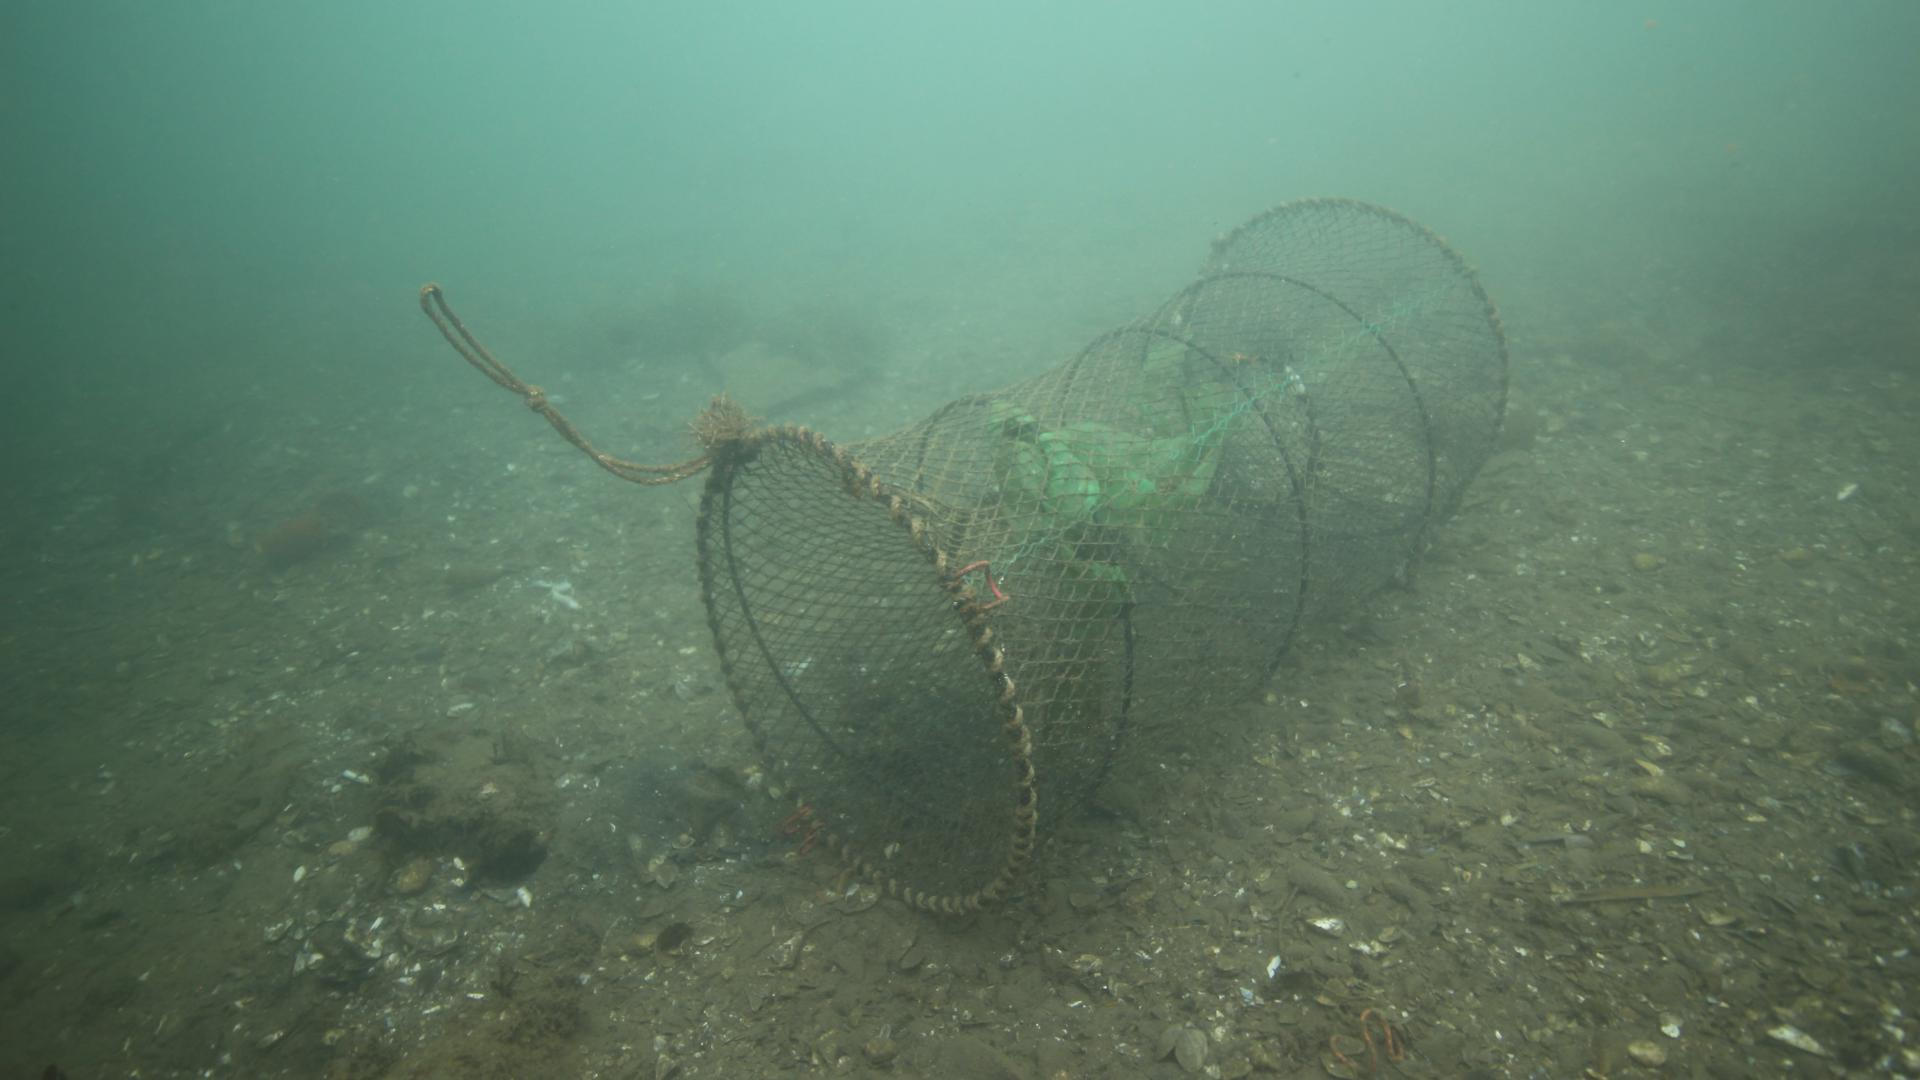bundle of ropes: (417, 280, 717, 487)
spring fish trap: (690, 198, 1511, 916)
